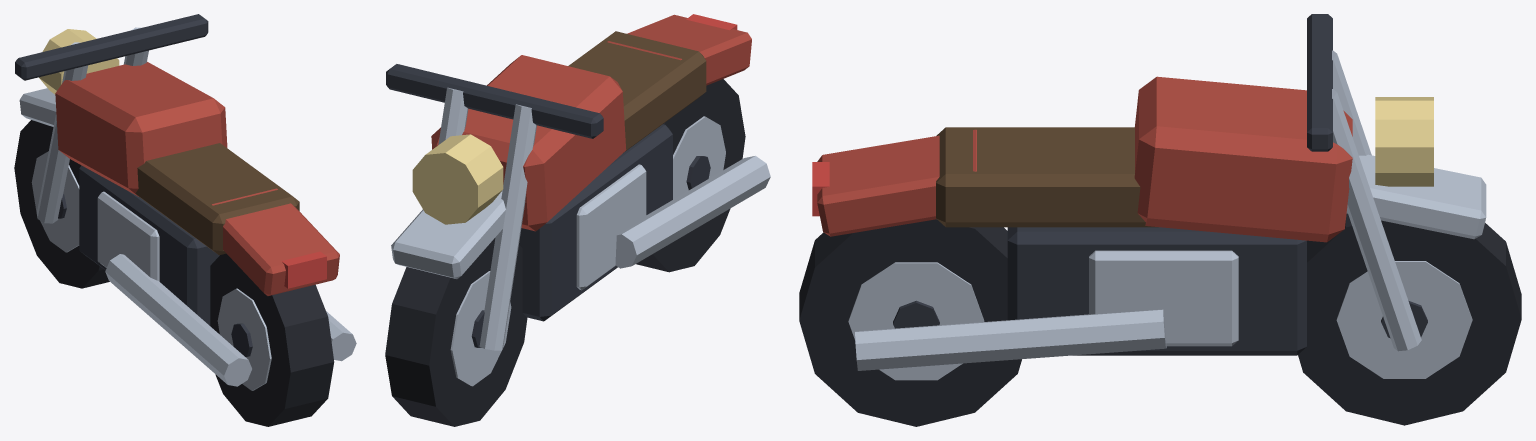
File: Stylized_Vehicle_Motorcycle.fbx
3 views of the same model, side by side, from view 1: azimuth 30°, elevation 25°; view 2: azimuth 150°, elevation 25°; view 3: azimuth 270°, elevation 25° (orthographic). The views are drawn at different scales.
Parts seen in each view (by area): view 1: Stylized_Vehicle_Motorcycle; view 2: Stylized_Vehicle_Motorcycle; view 3: Stylized_Vehicle_Motorcycle.
Part boxes in pixels (box(x1,y1,x2,y2)): Stylized_Vehicle_Motorcycle: box(14, 14, 356, 426); Stylized_Vehicle_Motorcycle: box(385, 14, 770, 426); Stylized_Vehicle_Motorcycle: box(799, 14, 1521, 426).
Bounding box in the file's own units: 0.86 × 1.16 × 2.22.
